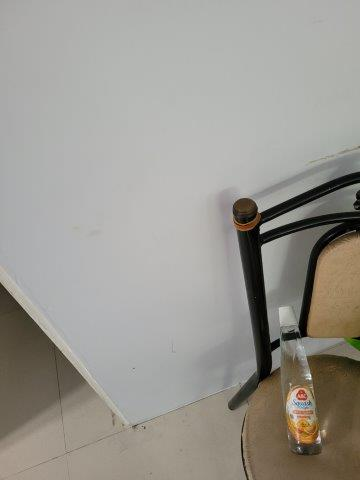botolkaca: (277, 306, 322, 454)
